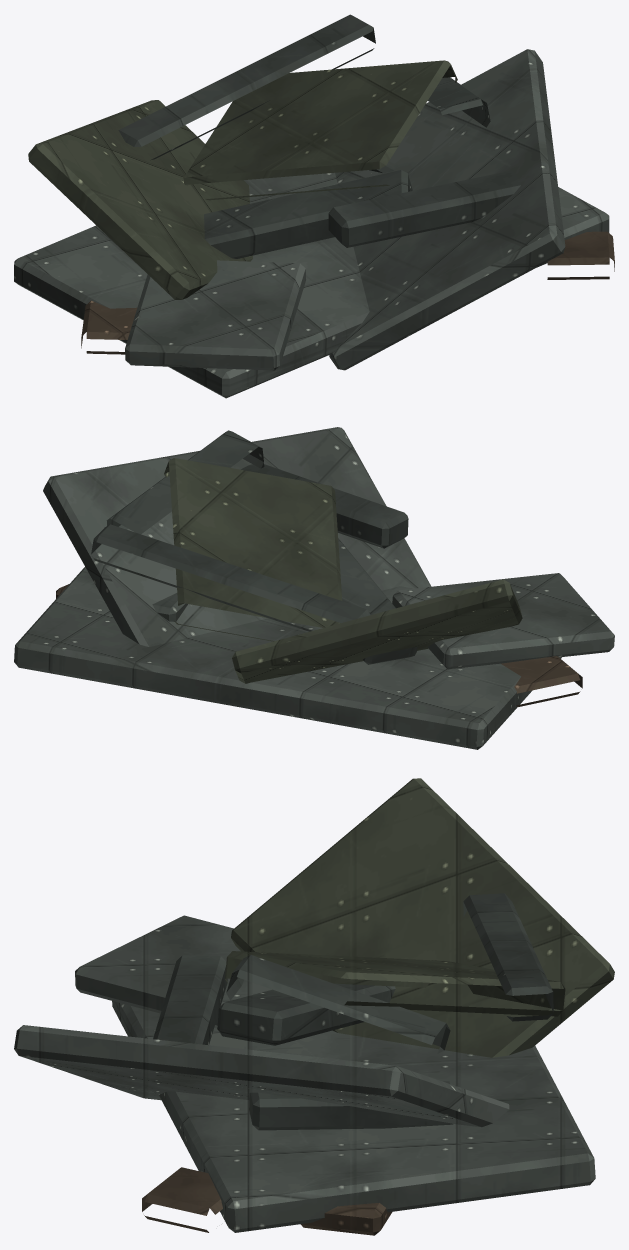
The model's file is floor_debris.glb.
3 views of the same model, one above another, from view 1: azimuth 30°, elevation 25°; view 2: azimuth 150°, elevation 25°; view 3: azimuth 270°, elevation 25° (orthographic). The views are drawn at different scales.
Visible parts, largest first — view 1: floor_debris; view 2: floor_debris; view 3: floor_debris.
Part boxes in pixels (<box>): floor_debris: <box>14,14,614,398</box>; floor_debris: <box>14,427,614,749</box>; floor_debris: <box>14,778,614,1235</box>.
Bounding box in the file's own units: 0.9 × 0.3376 × 0.7942.
1 material, 1 textured.
